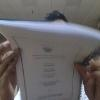notebook: (0, 18, 99, 99)
